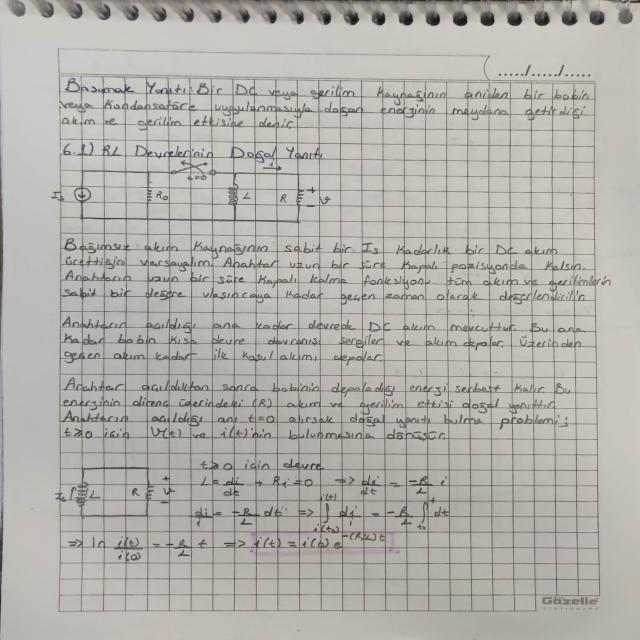image: (48, 159, 335, 225), (52, 448, 180, 526)
math: (186, 455, 460, 536), (63, 528, 405, 562)
text: (58, 233, 614, 306), (59, 370, 576, 441), (56, 74, 595, 132), (59, 312, 586, 364), (60, 140, 328, 158)
